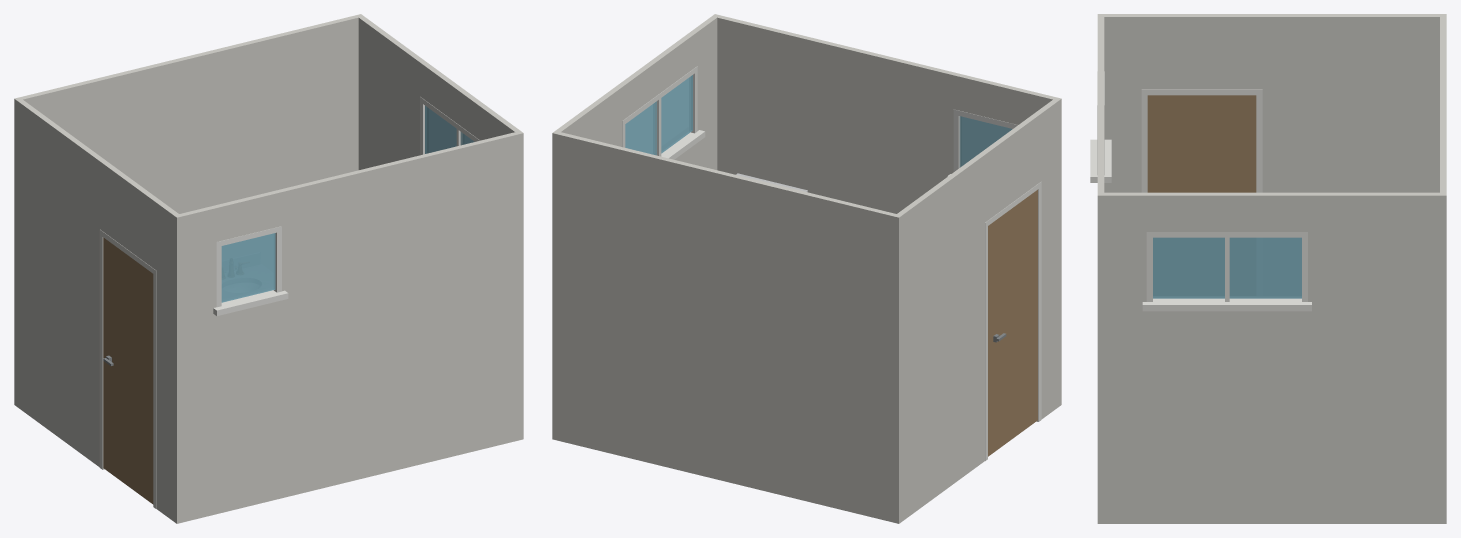
Rendered from scenesmith.glb.
The picture shows the model from 3 angles, left to right: view 1: azimuth 30°, elevation 25°; view 2: azimuth 150°, elevation 25°; view 3: azimuth 270°, elevation 25°; orthographic projection. The views are drawn at different scales.
Parts seen in each view (by area): view 1: scene_067_bathroom_south_wall, scene_067_bathroom_north_wall, scene_067_bathroom_west_wall, scene_067_bathroom_east_wall, scene_067_bathroom_west_wall Door 0 | wood leaf, scene_067_bathroom_south_wall Window 0 | glazing, scene_067_bathroom_west_wall Door 0 | jamb, scene_067_bathroom_south_wall Window 0 | jamb, scene_067_bathroom_east_wall Window 0 | glazing, scene_067_bathroom_east_wall Window 0 | jamb; view 2: scene_067_bathroom_north_wall, scene_067_bathroom_south_wall, scene_067_bathroom_west_wall, scene_067_bathroom_west_wall Door 0 | wood leaf, scene_067_bathroom_east_wall, scene_067_bathroom_east_wall Window 0 | glazing, scene_067_bathroom_west_wall Door 0 | jamb, scene_067_bathroom_east_wall Window 0 | jamb, scene_067_bathroom_south_wall Window 0 | glazing, scene_067_bathroom_south_wall Window 0 | jamb; view 3: scene_067_bathroom_east_wall, scene_067_bathroom_west_wall, scene_067_bathroom_west_wall Door 0 | wood leaf, scene_067_bathroom_east_wall Window 0 | glazing, scene_067_bathroom_east_wall Window 0 | jamb, scene_067_bathroom_west_wall Door 0 | jamb, scene_067_bathroom_south_wall, scene_067_bathroom_north_wall, scene_067_bathroom_south_wall Window 0 | jamb.
Part boxes in pixels (box(x1,y1,x2,y2)): scene_067_bathroom_south_wall: box(173, 132, 518, 523); scene_067_bathroom_north_wall: box(14, 14, 363, 406); scene_067_bathroom_west_wall: box(14, 97, 182, 523); scene_067_bathroom_east_wall: box(358, 16, 523, 440); scene_067_bathroom_west_wall Door 0 | wood leaf: box(103, 237, 153, 504); scene_067_bathroom_south_wall Window 0 | glazing: box(221, 233, 275, 302); scene_067_bathroom_west_wall Door 0 | jamb: box(99, 229, 156, 508); scene_067_bathroom_south_wall Window 0 | jamb: box(213, 226, 288, 315); scene_067_bathroom_east_wall Window 0 | glazing: box(425, 106, 474, 153); scene_067_bathroom_east_wall Window 0 | jamb: box(420, 96, 479, 155); scene_067_bathroom_north_wall: box(552, 131, 902, 523); scene_067_bathroom_south_wall: box(717, 15, 1061, 406); scene_067_bathroom_west_wall: box(893, 97, 1061, 523); scene_067_bathroom_west_wall Door 0 | wood leaf: box(988, 189, 1037, 456); scene_067_bathroom_east_wall: box(552, 14, 719, 440); scene_067_bathroom_east_wall Window 0 | glazing: box(625, 75, 692, 155); scene_067_bathroom_west_wall Door 0 | jamb: box(985, 181, 1041, 460); scene_067_bathroom_east_wall Window 0 | jamb: box(622, 66, 705, 159); scene_067_bathroom_south_wall Window 0 | glazing: box(959, 116, 1012, 167); scene_067_bathroom_south_wall Window 0 | jamb: box(947, 109, 1017, 176); scene_067_bathroom_east_wall: box(1097, 192, 1446, 523); scene_067_bathroom_west_wall: box(1097, 14, 1446, 192); scene_067_bathroom_west_wall Door 0 | wood leaf: box(1147, 95, 1256, 192); scene_067_bathroom_east_wall Window 0 | glazing: box(1153, 237, 1301, 298); scene_067_bathroom_east_wall Window 0 | jamb: box(1142, 232, 1311, 311); scene_067_bathroom_west_wall Door 0 | jamb: box(1141, 89, 1262, 192); scene_067_bathroom_south_wall: box(1097, 17, 1104, 192); scene_067_bathroom_north_wall: box(1440, 17, 1446, 195); scene_067_bathroom_south_wall Window 0 | jamb: box(1090, 71, 1111, 182).
Bounding box in the file's own units: 3.3 × 2.71 × 2.66.
